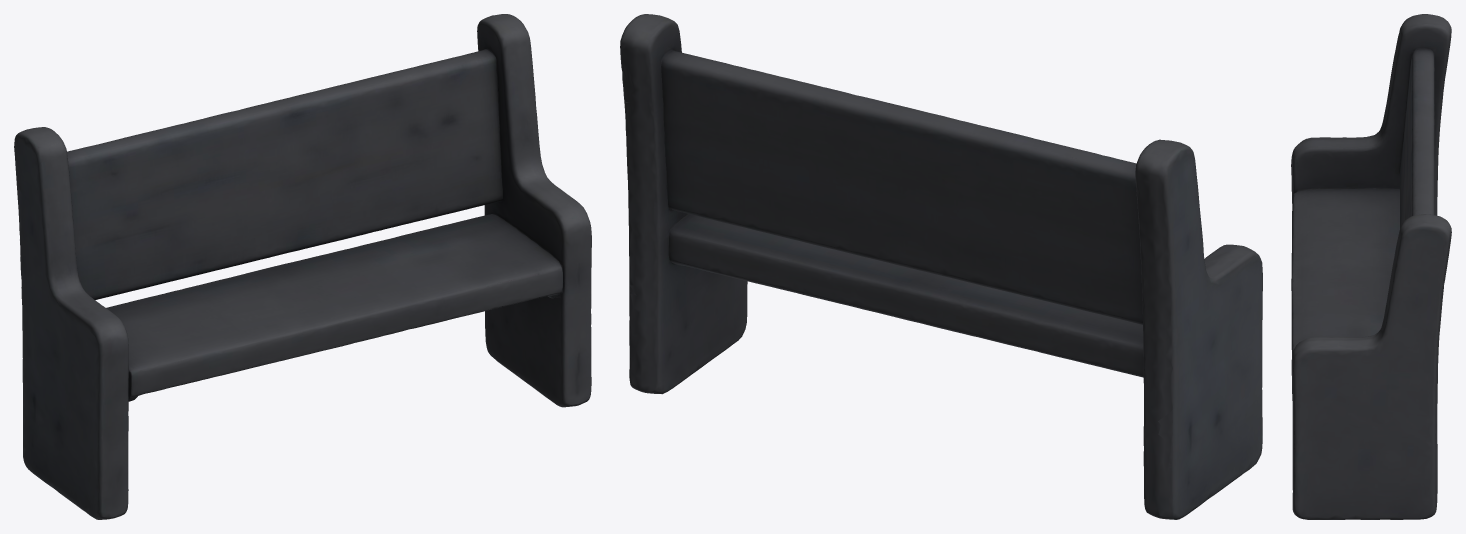
File: pew.glb
3 renders of one model, left to right at view 1: azimuth 30°, elevation 25°; view 2: azimuth 150°, elevation 25°; view 3: azimuth 270°, elevation 25°, orthographic. The views are drawn at different scales.
Visible parts, largest first — view 1: Mesh; view 2: Mesh; view 3: Mesh.
Part boxes in pixels (left/top/right/bottom): Mesh: left=14, top=14, right=591, bottom=519; Mesh: left=620, top=14, right=1262, bottom=519; Mesh: left=1291, top=14, right=1451, bottom=519.
Bounding box in the file's own units: 1.89 × 1.23 × 0.6033.
1 material, 1 textured.
